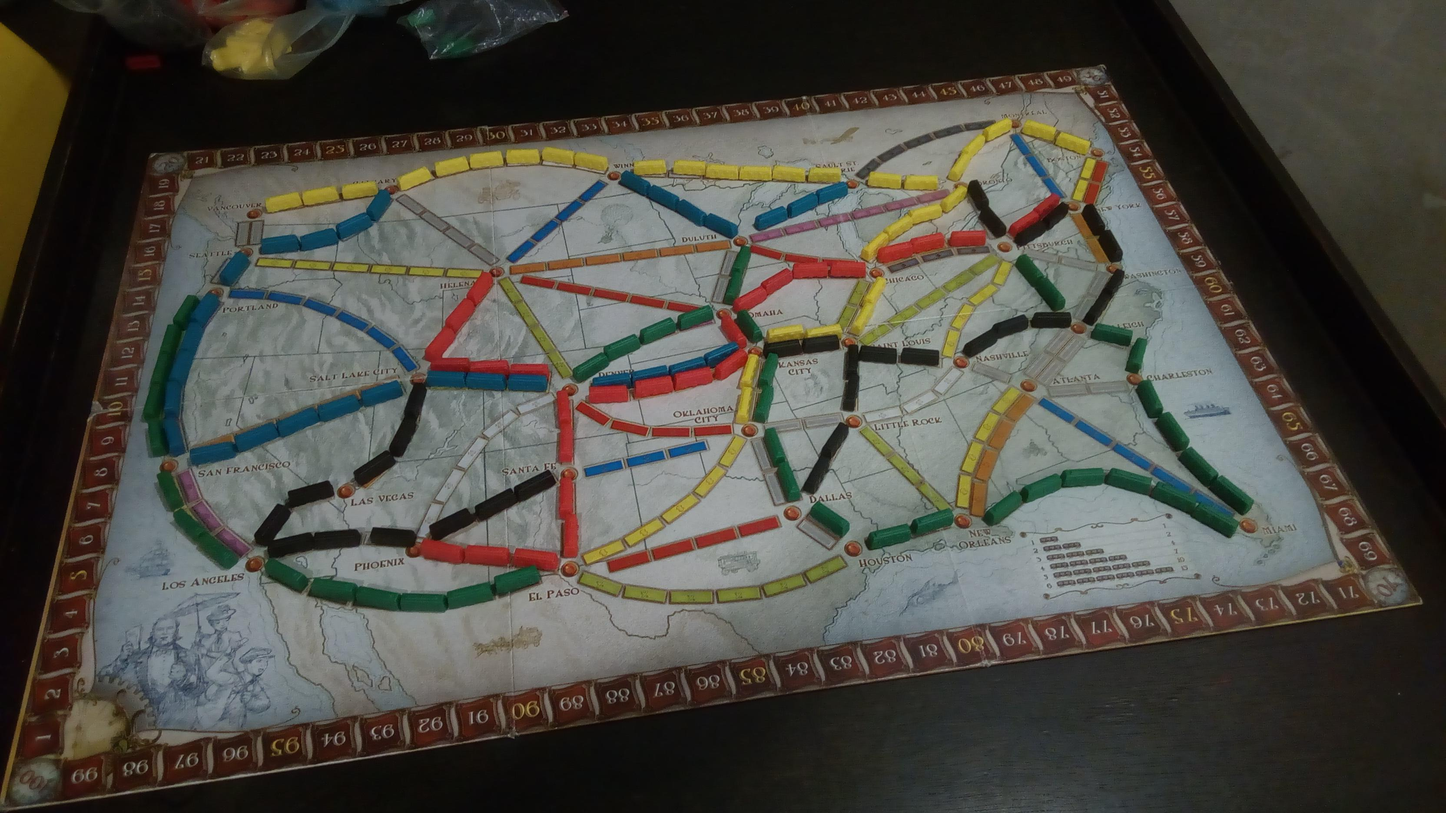black_train: (254, 504, 291, 545), (428, 508, 476, 539), (354, 451, 395, 486), (474, 489, 517, 520), (285, 481, 334, 508), (513, 471, 556, 501), (388, 416, 418, 457), (267, 533, 314, 558), (802, 456, 831, 494), (821, 423, 849, 459), (313, 529, 361, 549), (369, 527, 415, 547), (1095, 229, 1122, 262), (963, 331, 997, 357), (1014, 220, 1048, 246), (1084, 290, 1110, 324), (979, 206, 1007, 237), (991, 315, 1028, 337), (899, 348, 940, 367), (1082, 204, 1107, 235), (1041, 203, 1069, 230), (405, 383, 427, 417), (764, 339, 803, 358), (841, 370, 859, 410), (1030, 311, 1072, 328), (860, 345, 897, 364), (1102, 268, 1125, 298), (803, 334, 839, 353), (968, 180, 988, 212), (846, 346, 859, 379)
blue_train: (235, 422, 279, 451), (276, 407, 320, 436), (190, 440, 237, 465), (317, 394, 362, 420), (217, 251, 249, 286), (360, 381, 403, 406), (336, 213, 374, 239), (162, 417, 186, 456), (169, 351, 194, 387), (299, 227, 338, 250), (673, 198, 706, 225), (190, 294, 219, 324), (703, 342, 737, 366), (366, 189, 391, 221), (426, 368, 466, 388), (259, 235, 301, 254), (704, 214, 737, 238), (647, 185, 679, 209), (753, 208, 788, 229), (507, 373, 547, 391), (788, 193, 818, 217), (619, 171, 650, 194), (467, 373, 507, 390), (164, 380, 182, 417), (632, 365, 669, 383), (818, 181, 848, 203), (591, 371, 632, 387), (180, 324, 204, 351), (670, 357, 706, 374)
green_train: (1210, 475, 1254, 514), (197, 531, 239, 570), (1191, 503, 1237, 538), (492, 565, 541, 595), (264, 559, 308, 592), (1180, 447, 1218, 485), (1150, 482, 1195, 513), (1155, 412, 1189, 452), (984, 491, 1023, 525), (808, 503, 849, 535), (445, 582, 494, 608), (172, 509, 210, 542), (1104, 468, 1152, 494), (309, 578, 358, 603), (911, 508, 954, 536), (354, 585, 401, 610), (776, 458, 801, 502), (157, 472, 185, 511), (1035, 277, 1066, 312), (866, 525, 911, 549), (1021, 474, 1061, 501), (571, 353, 609, 381), (1135, 380, 1163, 418), (734, 310, 763, 343), (640, 319, 677, 344), (1016, 254, 1044, 287), (399, 593, 447, 612), (1091, 324, 1132, 346), (604, 335, 640, 360), (678, 305, 713, 330), (172, 295, 198, 328), (764, 429, 786, 467), (1061, 468, 1105, 487), (1125, 338, 1148, 372), (753, 384, 774, 421), (151, 352, 174, 385), (143, 383, 164, 419), (146, 421, 166, 456), (722, 272, 742, 304), (729, 246, 751, 275), (163, 324, 183, 354), (759, 354, 778, 385)
red_train: (713, 349, 750, 380), (420, 538, 464, 563), (424, 327, 455, 361), (719, 311, 747, 348), (513, 548, 559, 570), (465, 545, 511, 566), (633, 375, 674, 398), (673, 366, 713, 389), (876, 241, 915, 264), (445, 300, 474, 330), (1008, 210, 1040, 237), (587, 383, 629, 403), (734, 286, 768, 310), (468, 275, 494, 304), (562, 513, 578, 558), (762, 268, 792, 292), (911, 233, 945, 253), (558, 423, 575, 463), (1031, 194, 1060, 217), (559, 478, 575, 518), (470, 359, 510, 375), (555, 391, 573, 426), (792, 262, 828, 279), (829, 261, 867, 277), (948, 230, 985, 246), (431, 357, 470, 372), (510, 364, 548, 377)
yellow_train: (397, 167, 433, 191), (861, 232, 890, 260), (862, 277, 887, 308), (850, 303, 874, 335), (1054, 133, 1090, 154), (1022, 120, 1056, 142), (265, 192, 302, 212), (301, 186, 339, 205), (740, 355, 761, 388), (735, 387, 754, 423), (909, 204, 943, 224), (940, 187, 967, 212), (883, 217, 912, 240), (766, 324, 805, 341), (435, 157, 468, 177), (574, 152, 607, 172), (960, 133, 986, 158), (984, 118, 1013, 140), (469, 151, 504, 169), (341, 182, 378, 199), (867, 171, 902, 188), (541, 147, 574, 165), (949, 153, 971, 180), (672, 159, 706, 176), (772, 165, 806, 182), (505, 149, 540, 165), (633, 159, 667, 175), (807, 167, 842, 182), (903, 175, 938, 190), (705, 164, 739, 179), (806, 324, 842, 338), (739, 166, 772, 180)
